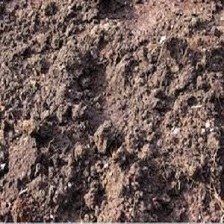loamy_soil: (8, 31, 211, 197)
